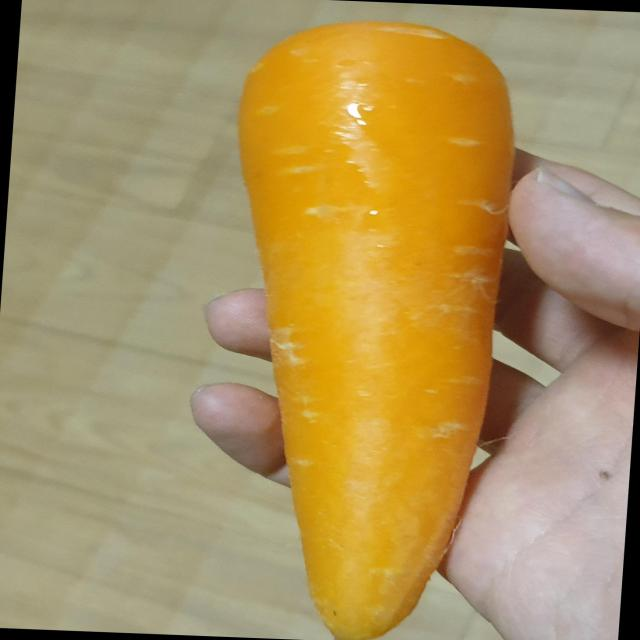carrot: (238, 22, 513, 640)
